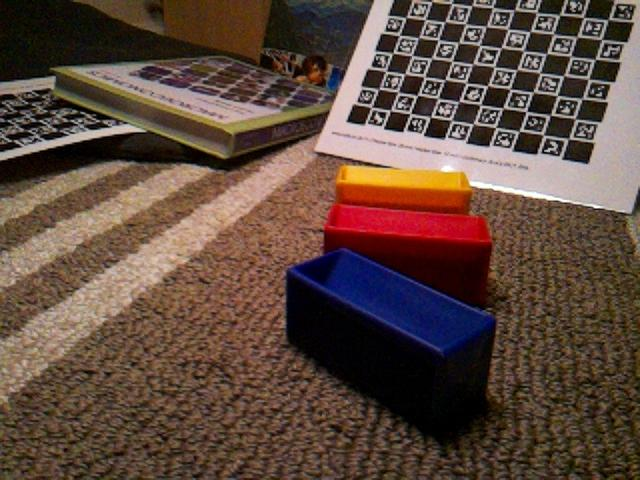blue: (283, 245, 499, 430)
red: (323, 201, 494, 307)
yellow: (334, 163, 474, 214)
